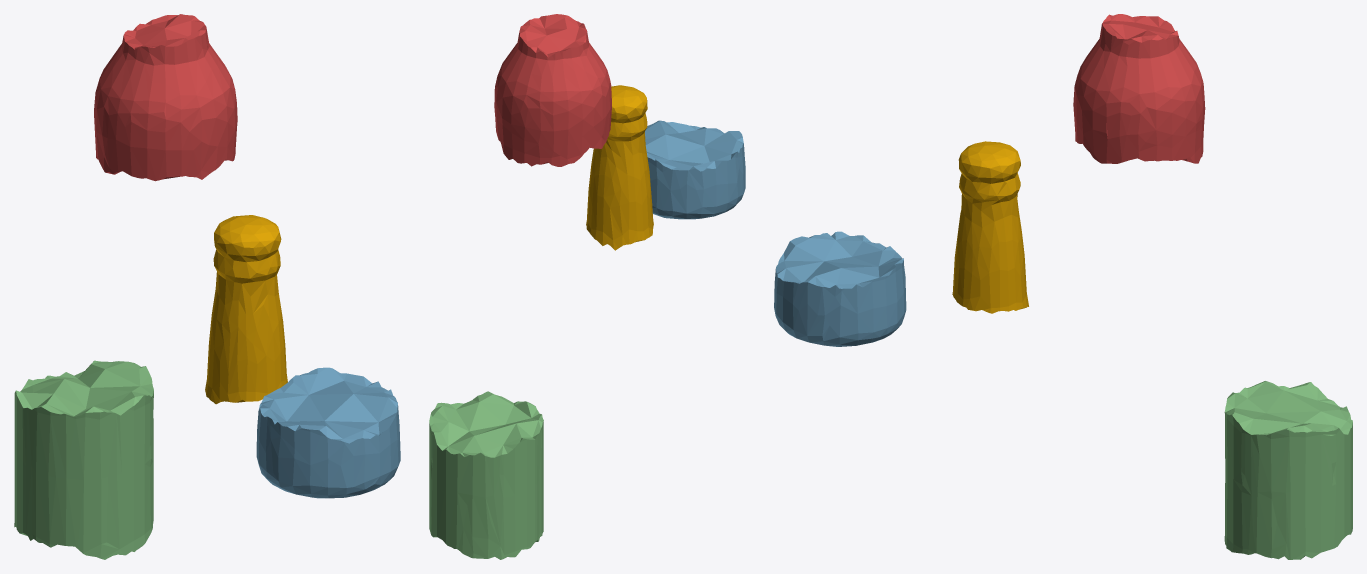
The model's file is mode_4_4pcs_transformed.glb.
3 views of the same model, side by side, from view 1: azimuth 30°, elevation 25°; view 2: azimuth 150°, elevation 25°; view 3: azimuth 270°, elevation 25° (orthographic). The views are drawn at different scales.
Visible parts, largest first — view 1: piece_3.obj, piece_1.obj, piece_2.obj, piece_0.obj; view 2: piece_3.obj, piece_1.obj, piece_2.obj, piece_0.obj; view 3: piece_3.obj, piece_1.obj, piece_2.obj, piece_0.obj.
Boxes of the visible parts, x1=… form: piece_3.obj: x1=14, y1=360, x2=153, y2=559; piece_1.obj: x1=94, y1=14, x2=237, y2=181; piece_2.obj: x1=256, y1=367, x2=400, y2=498; piece_0.obj: x1=205, y1=215, x2=287, y2=404; piece_3.obj: x1=429, y1=391, x2=543, y2=559; piece_1.obj: x1=494, y1=14, x2=611, y2=166; piece_2.obj: x1=645, y1=120, x2=745, y2=219; piece_0.obj: x1=586, y1=85, x2=653, y2=250; piece_3.obj: x1=1224, y1=381, x2=1352, y2=559; piece_1.obj: x1=1073, y1=14, x2=1205, y2=163; piece_2.obj: x1=774, y1=231, x2=906, y2=346; piece_0.obj: x1=952, y1=141, x2=1028, y2=313.
Bounding box in the file's own units: 0.2656 × 1.15 × 1.16.
